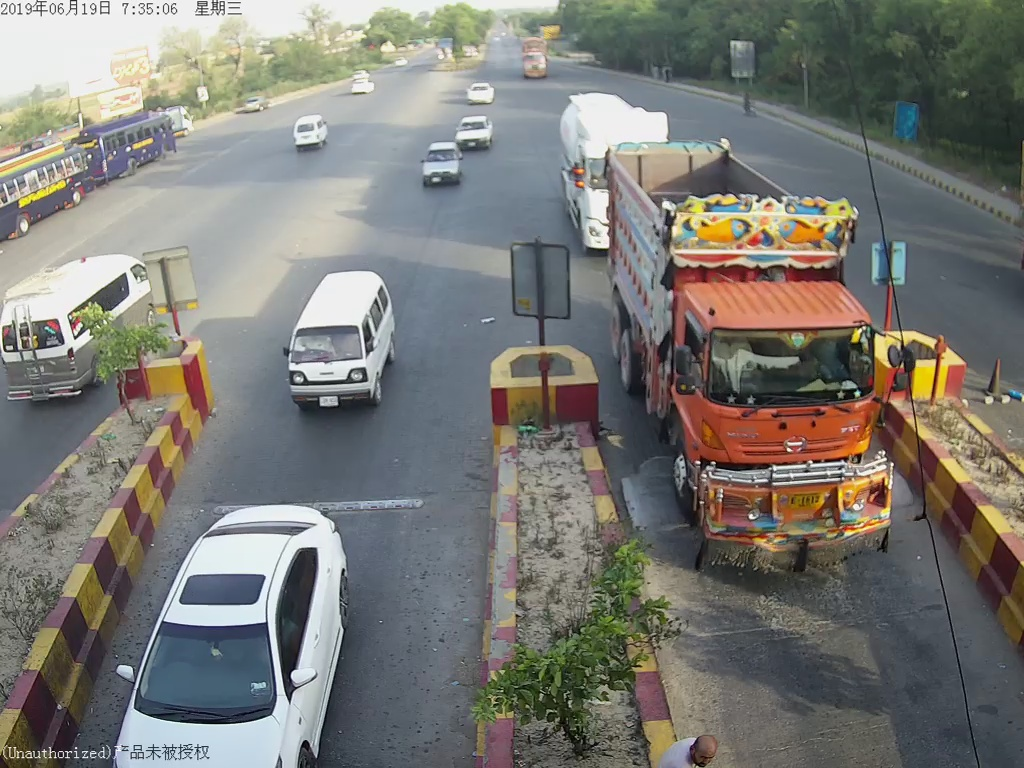Cat-1: (283, 268, 402, 410)
Cat-4: (602, 151, 885, 591)
